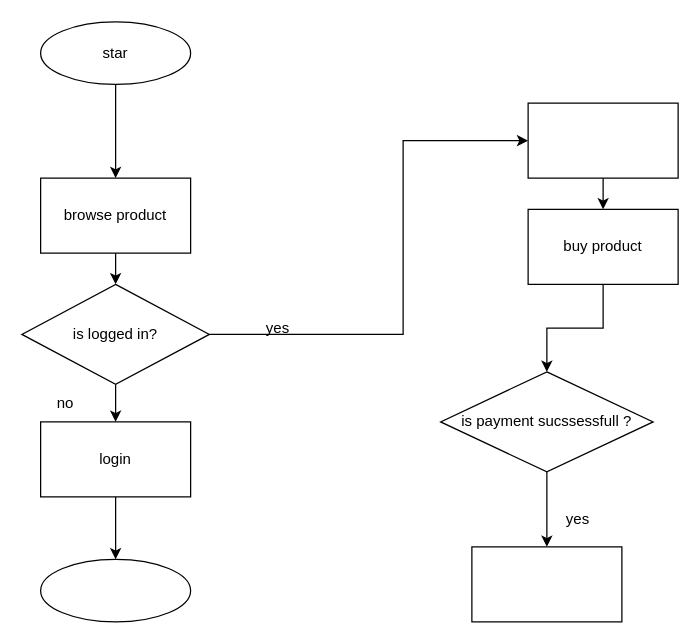
The diagram is 700 pixels wide and 644 high, and some of its shapes have lost their labels. The shapes that lost their labels are listed below. From the top down, each one's centre as x and y in pixels, then its label:
At point 602,140: "add to card".
At point 115,590: "end".
At point 546,584: "logout".
